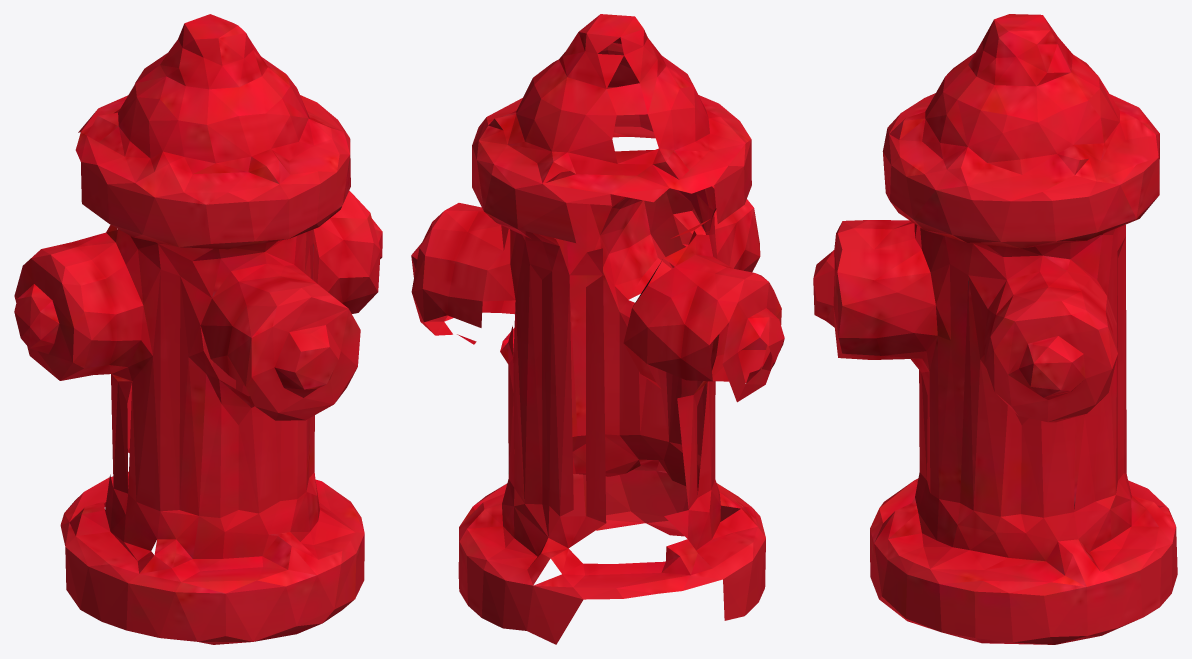
File: M-10_08a_hydrant.glb
3 views of the same model, side by side, from view 1: azimuth 30°, elevation 25°; view 2: azimuth 150°, elevation 25°; view 3: azimuth 270°, elevation 25° (orthographic).
Visible parts, largest first — view 1: loA; view 2: loA; view 3: loA.
Part boxes in pixels (bbox=[...]): loA: bbox=[14, 14, 382, 644]; loA: bbox=[411, 14, 784, 644]; loA: bbox=[813, 14, 1177, 644].
Size of the model in its own units: 0.9919 by 1.5 by 0.8805.
1 material, 1 textured.
